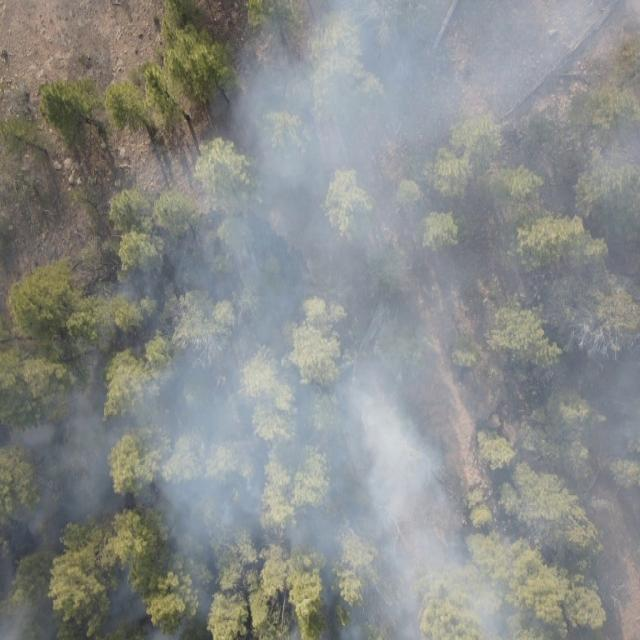fire: (216, 373, 229, 388)
smoke: (1, 297, 640, 640), (69, 148, 640, 298), (215, 0, 640, 149)
